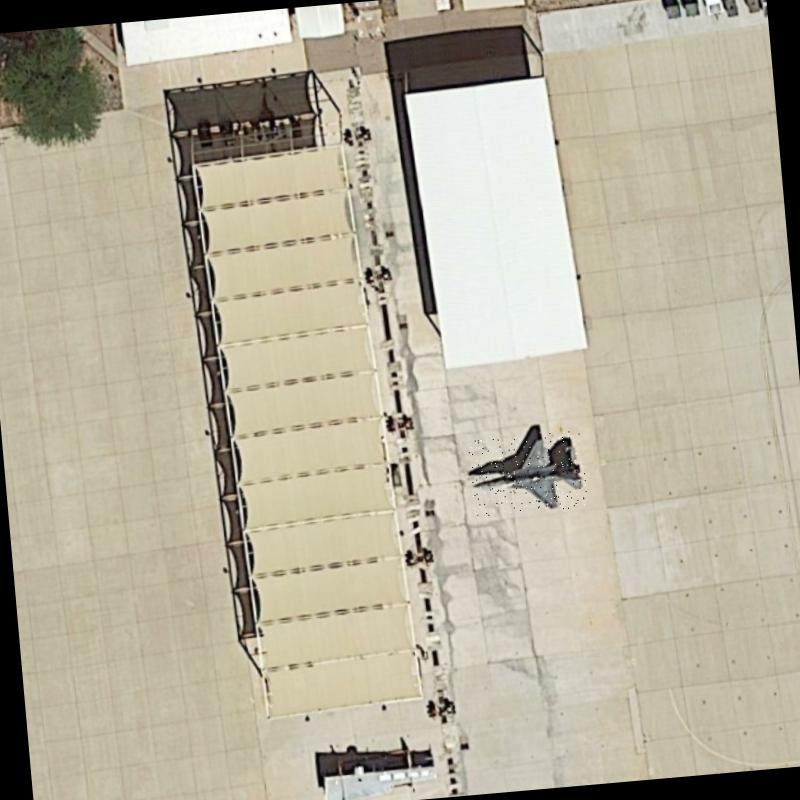A5: (468, 430, 588, 517)
